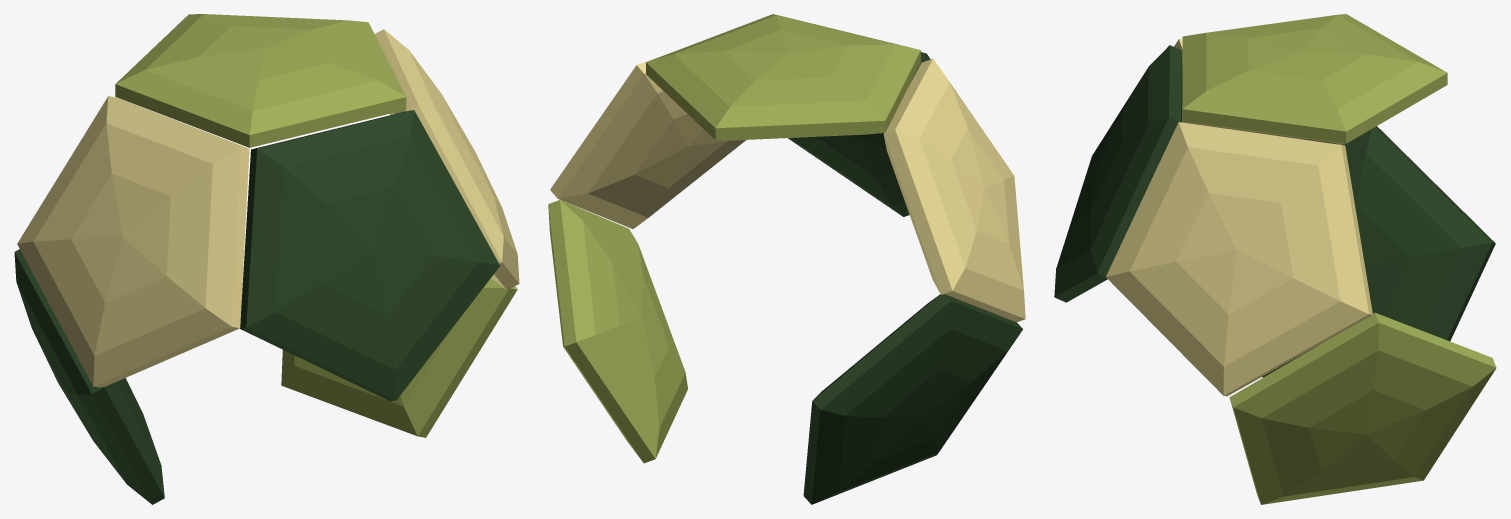
The model's file is PFC_SixBpent.fbx.
The picture shows the model from 3 angles, left to right: view 1: azimuth 30°, elevation 25°; view 2: azimuth 150°, elevation 25°; view 3: azimuth 270°, elevation 25°; orthographic projection. The views are drawn at different scales.
Parts seen in each view (by area): view 1: Pent.007; view 2: Pent.007; view 3: Pent.007.
Boxes of the visible parts, bbox=[...] form: Pent.007: bbox=[14, 14, 519, 504]; Pent.007: bbox=[548, 14, 1025, 504]; Pent.007: bbox=[1054, 14, 1496, 504].
Bounding box in the file's own units: 313 × 286 × 295.
